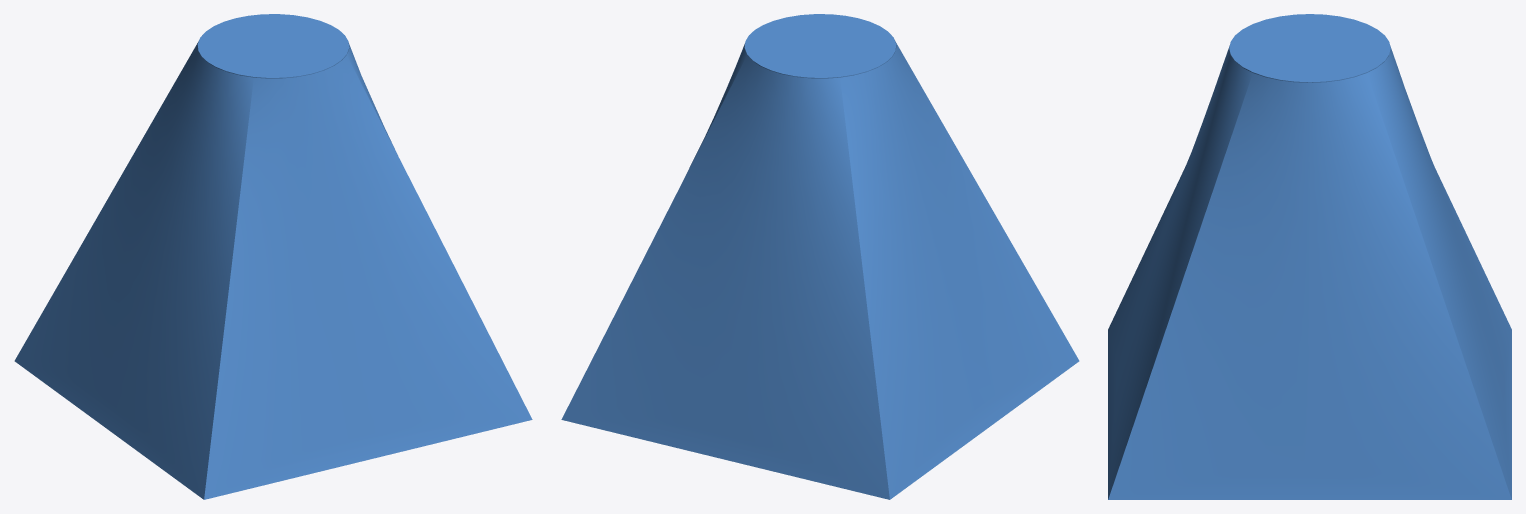
File: Cannon base.fbx
3 renders of one model, left to right at view 1: azimuth 30°, elevation 25°; view 2: azimuth 150°, elevation 25°; view 3: azimuth 270°, elevation 25°, orthographic. The views are drawn at different scales.
Visible parts, largest first — view 1: Body2; view 2: Body2; view 3: Body2.
Boxes of the visible parts, box(x1,y1,x2,y2) form: Body2: box(14, 14, 532, 499); Body2: box(561, 14, 1079, 499); Body2: box(1108, 14, 1511, 499).
Bounding box in the file's own units: 50 × 50.1 × 50.
